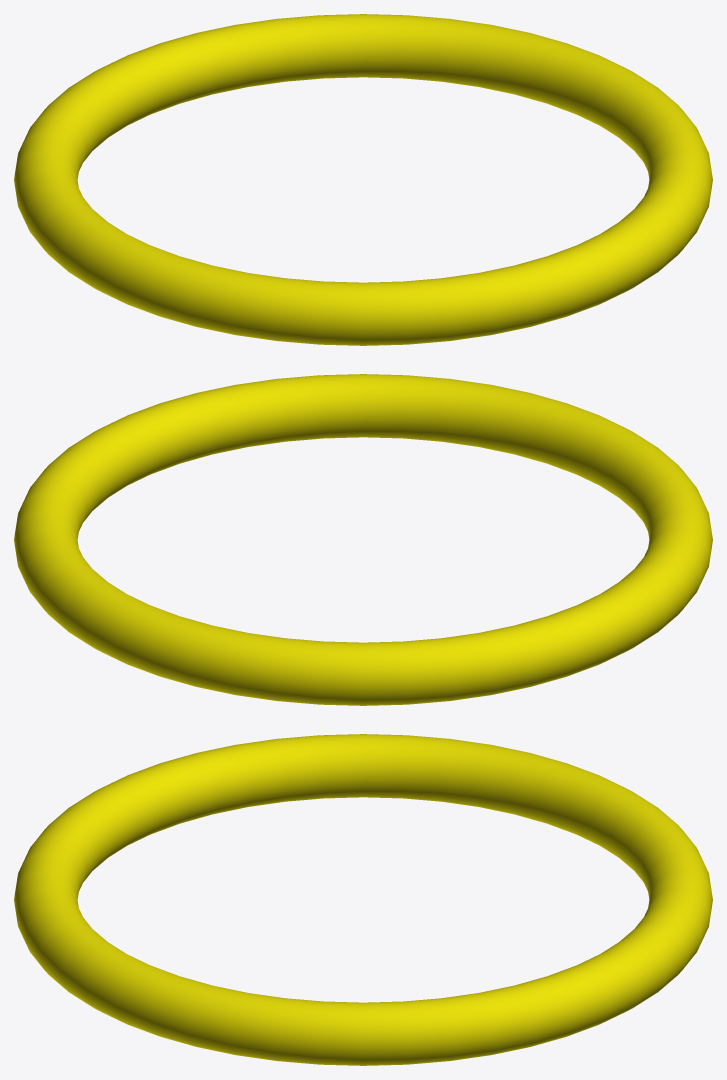
File: ring.fbx
3 views of the same model, one above another, from view 1: azimuth 30°, elevation 25°; view 2: azimuth 150°, elevation 25°; view 3: azimuth 270°, elevation 25° (orthographic).
Parts seen in each view (by area): view 1: ring; view 2: ring; view 3: ring.
Boxes of the visible parts, x1,y1,x2,y2 form: ring: (14, 14, 712, 345); ring: (14, 374, 712, 705); ring: (14, 734, 712, 1065).
Bounding box in the file's own units: 220 × 20 × 220.
